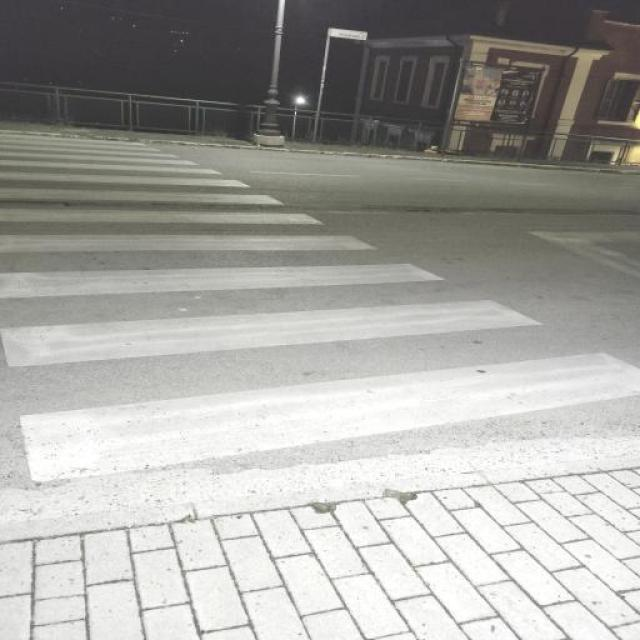crosswalk: (0, 131, 640, 480)
